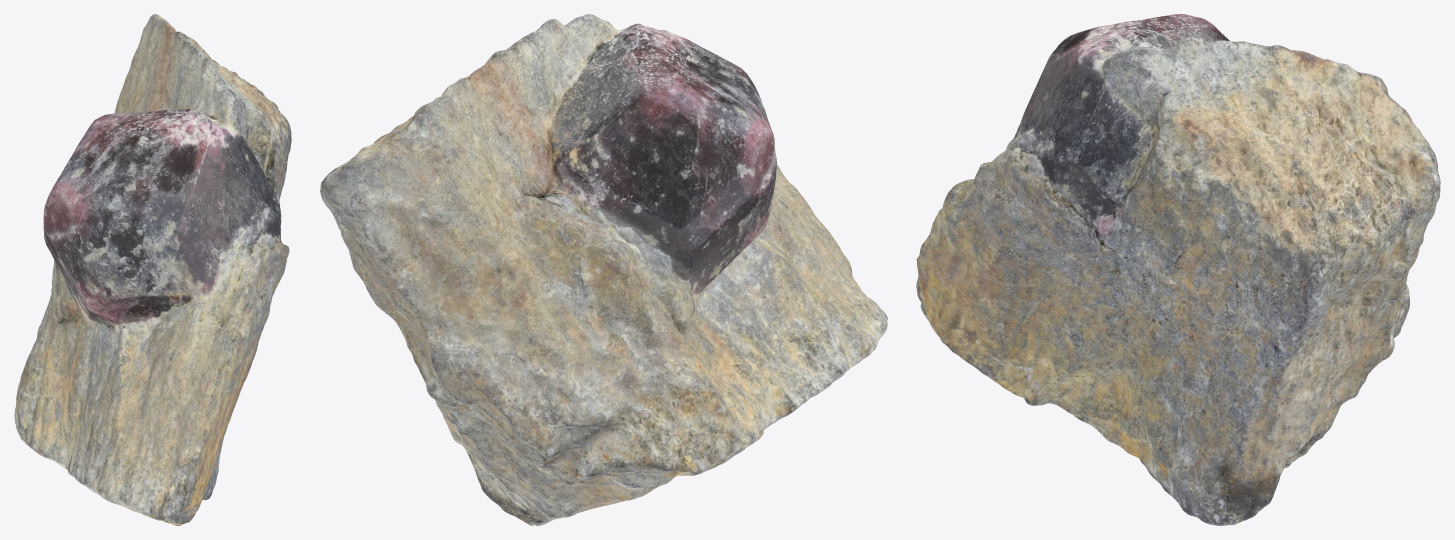
The model's file is garnet.glb.
The picture shows the model from 3 angles, left to right: view 1: azimuth 30°, elevation 25°; view 2: azimuth 150°, elevation 25°; view 3: azimuth 270°, elevation 25°; orthographic projection. The views are drawn at different scales.
Parts seen in each view (by area): view 1: Object_2; view 2: Object_2; view 3: Object_2.
Part boxes in pixels (left/top/right/bottom): Object_2: left=14, top=14, right=291, bottom=525; Object_2: left=320, top=14, right=887, bottom=525; Object_2: left=916, top=14, right=1440, bottom=525.
Bounding box in the file's own units: 3.23 × 4.06 × 3.95.
Materials: 1 (1 with a texture image).
